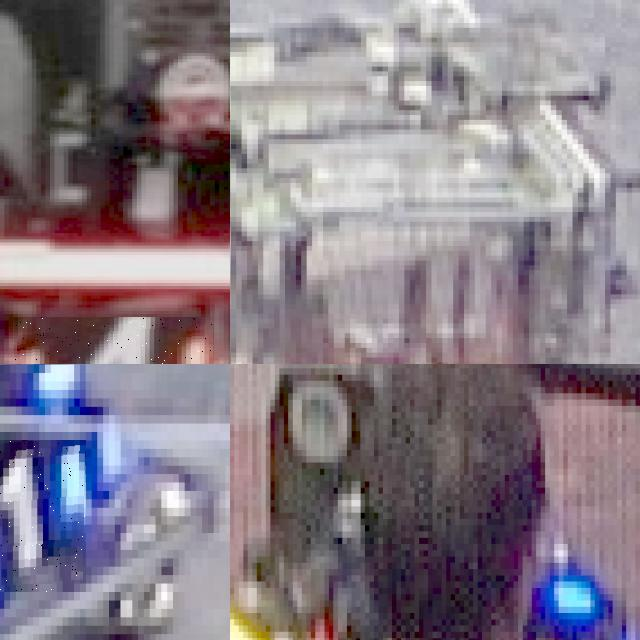B1: (0, 440, 85, 591)
R4: (13, 317, 214, 364)
